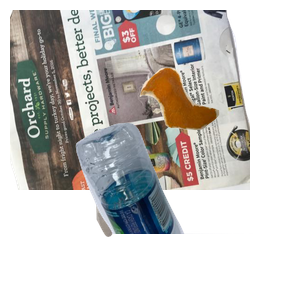glass: (94, 184, 253, 300)
paper: (10, 10, 250, 190)
plastic: (73, 120, 300, 300)
trash: (137, 65, 300, 188)
